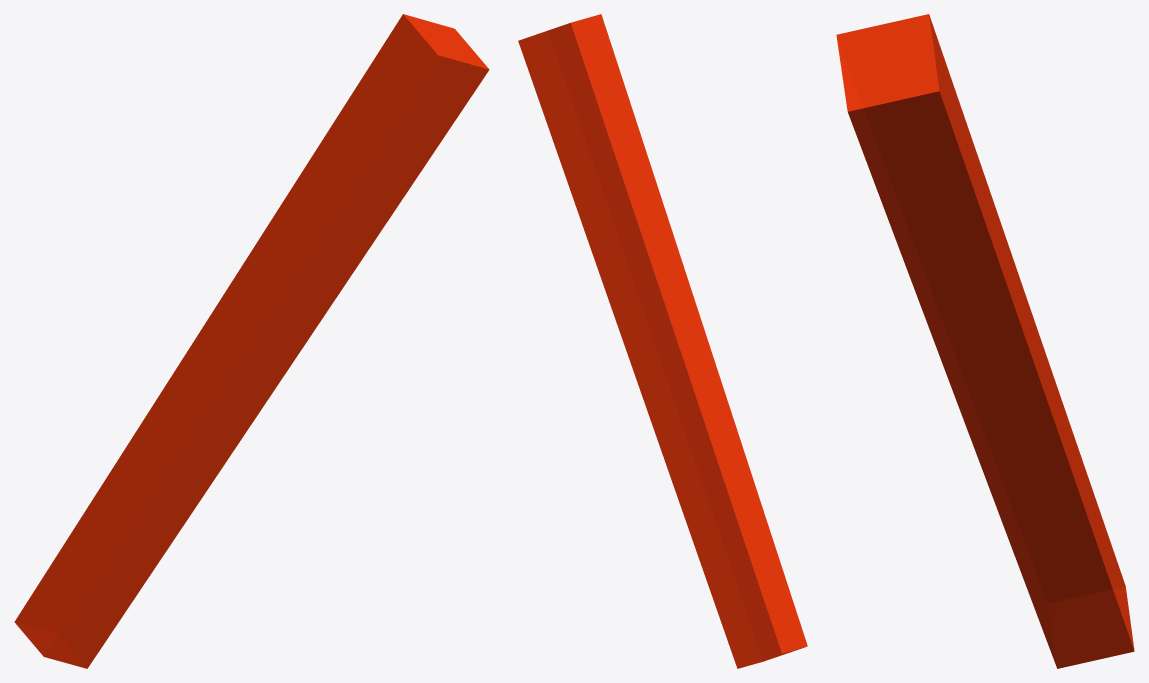
Rendered from Event_421364160_EBrechit_22.fbx.
The picture shows the model from 3 angles, left to right: view 1: azimuth 30°, elevation 25°; view 2: azimuth 150°, elevation 25°; view 3: azimuth 270°, elevation 25°; orthographic projection. The views are drawn at different scales.
Visible parts, largest first — view 1: Model; view 2: Model; view 3: Model.
Part boxes in pixels (x1,y1,x2,y2): Model: (14, 14, 489, 668); Model: (518, 14, 807, 668); Model: (836, 14, 1134, 668).
Size of the model in its own units: 0.3932 by 0.6346 by 0.2072.
